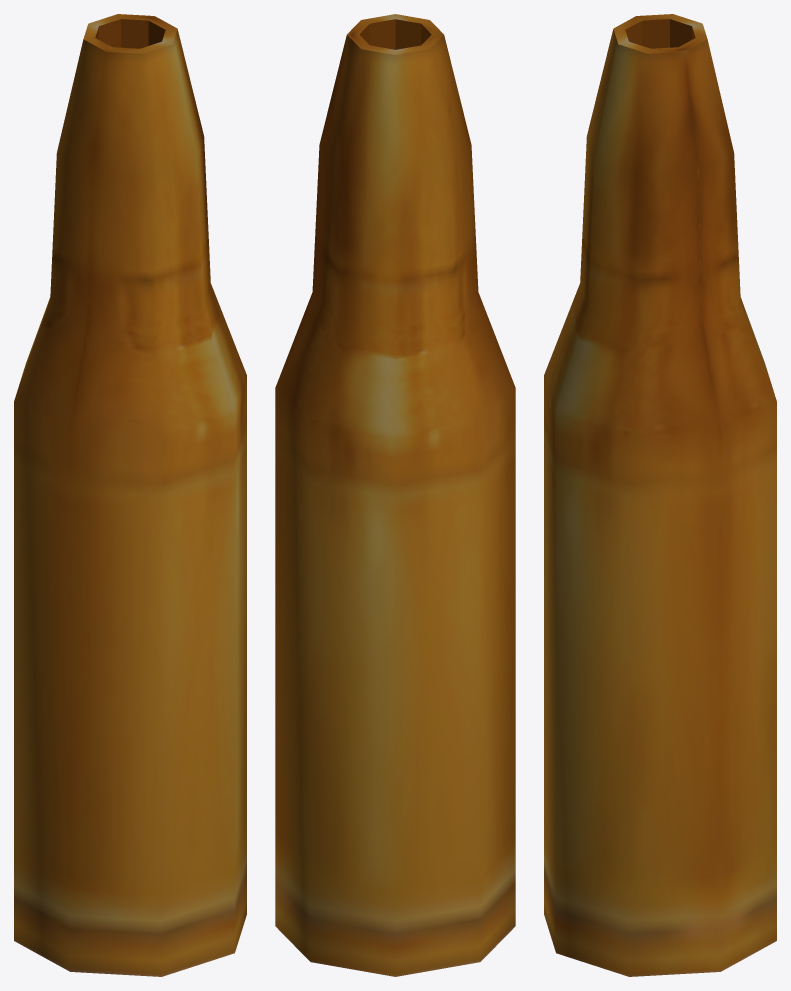
The model's file is WuZhengDiaoChaKe_01_zidanke_01.FBX.
The picture shows the model from 3 angles, left to right: view 1: azimuth 30°, elevation 25°; view 2: azimuth 150°, elevation 25°; view 3: azimuth 270°, elevation 25°; orthographic projection.
Visible parts, largest first — view 1: CeSuo_zidanke_01; view 2: CeSuo_zidanke_01; view 3: CeSuo_zidanke_01.
Boxes of the visible parts, x1=… form: CeSuo_zidanke_01: x1=14, y1=14, x2=246, y2=976; CeSuo_zidanke_01: x1=275, y1=14, x2=515, y2=976; CeSuo_zidanke_01: x1=544, y1=14, x2=776, y2=976.
Bounding box in the file's own units: 15.08 × 63.85 × 15.08.
